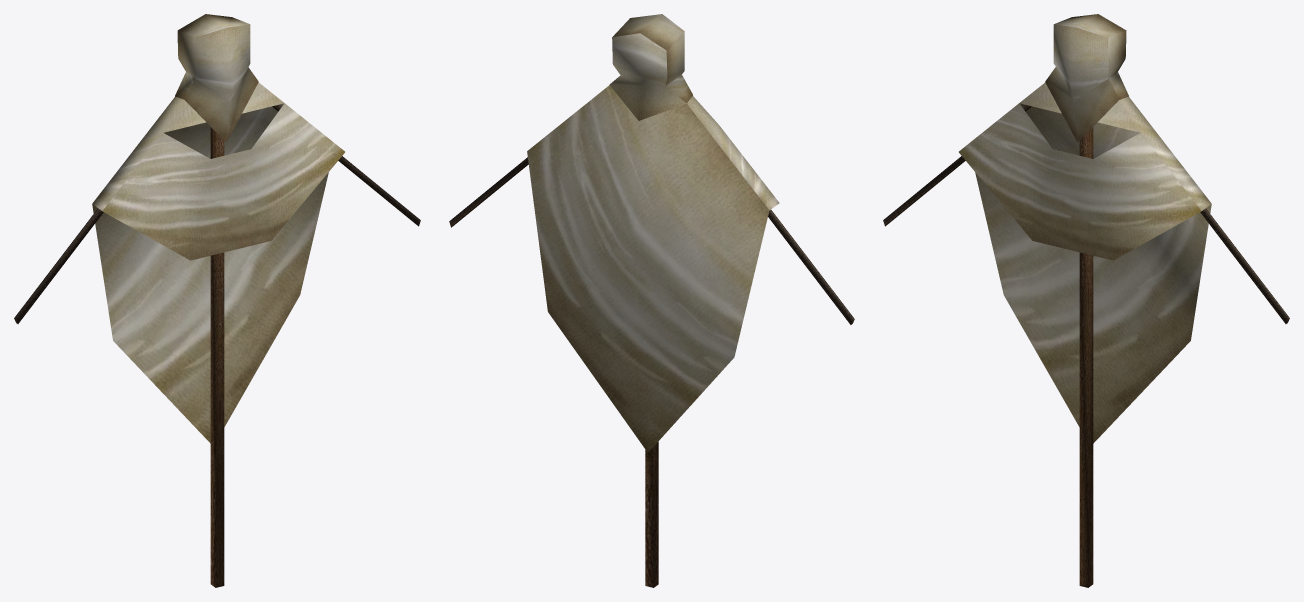
The model's file is KM_VOB_SCARECROW_01.glb.
3 renders of one model, left to right at view 1: azimuth 30°, elevation 25°; view 2: azimuth 150°, elevation 25°; view 3: azimuth 330°, elevation 25°, orthographic.
Visible parts, largest first — view 1: Mesh; view 2: Mesh; view 3: Mesh.
Part boxes in pixels (<box>): Mesh: <box>14,14,420,587</box>; Mesh: <box>449,14,854,587</box>; Mesh: <box>883,14,1289,587</box>.
Bounding box in the file's own units: 1.35 × 1.79 × 0.2088.
Materials: 2 (2 with a texture image).
